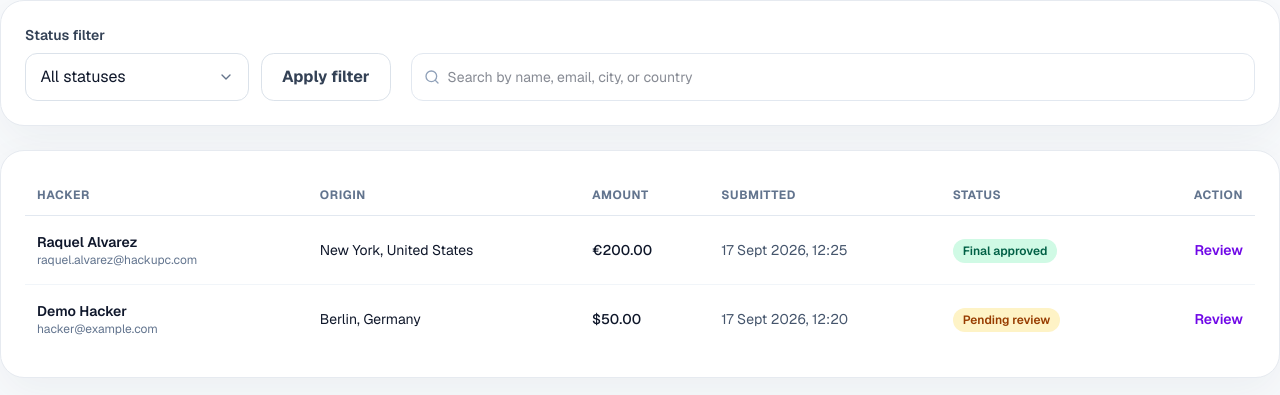
Test: TravelReimbursementsTable › filters as you type by country
Type "germany" into the search field named "Search travel reimbursements by name, email, city, or country" at (845, 77), box [448,54,1242,100]
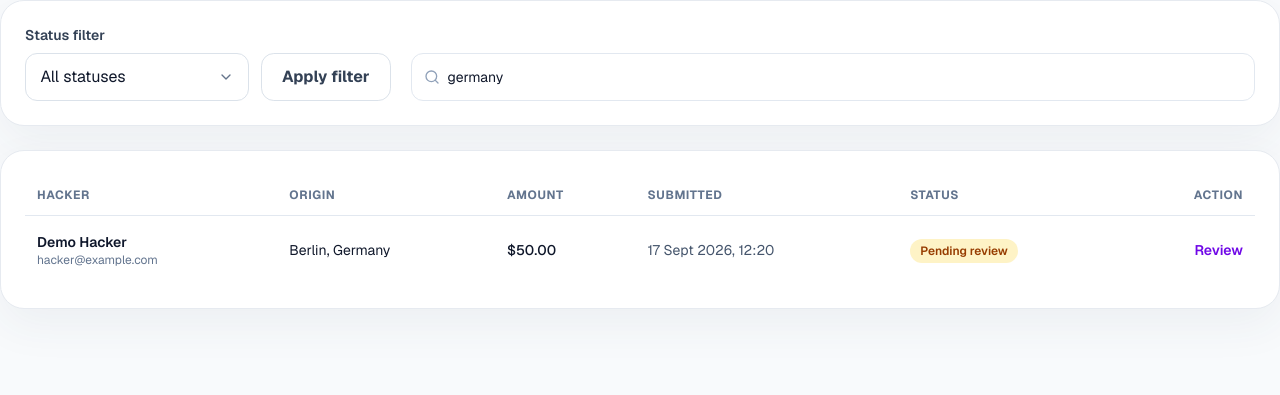
Expected: the text "Demo Hacker" is shown, [37,233,127,251]
Now the text "Raquel Alvarez" is gone
